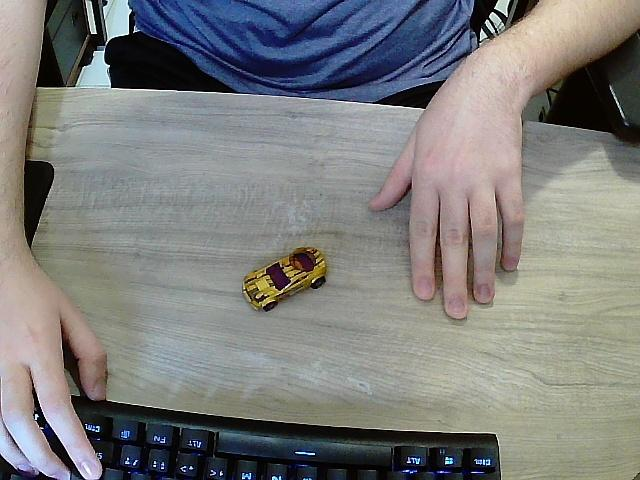Carro: (241, 247, 329, 313)
